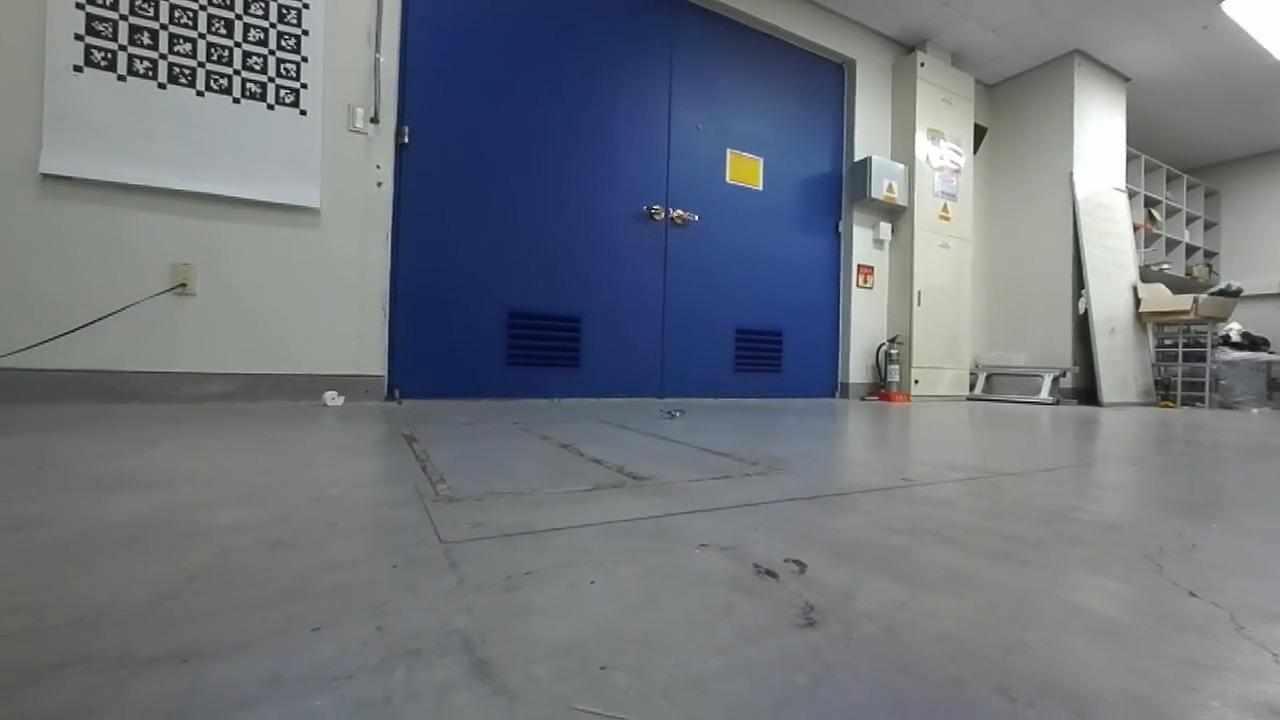crazyflie: (657, 401, 695, 426)
